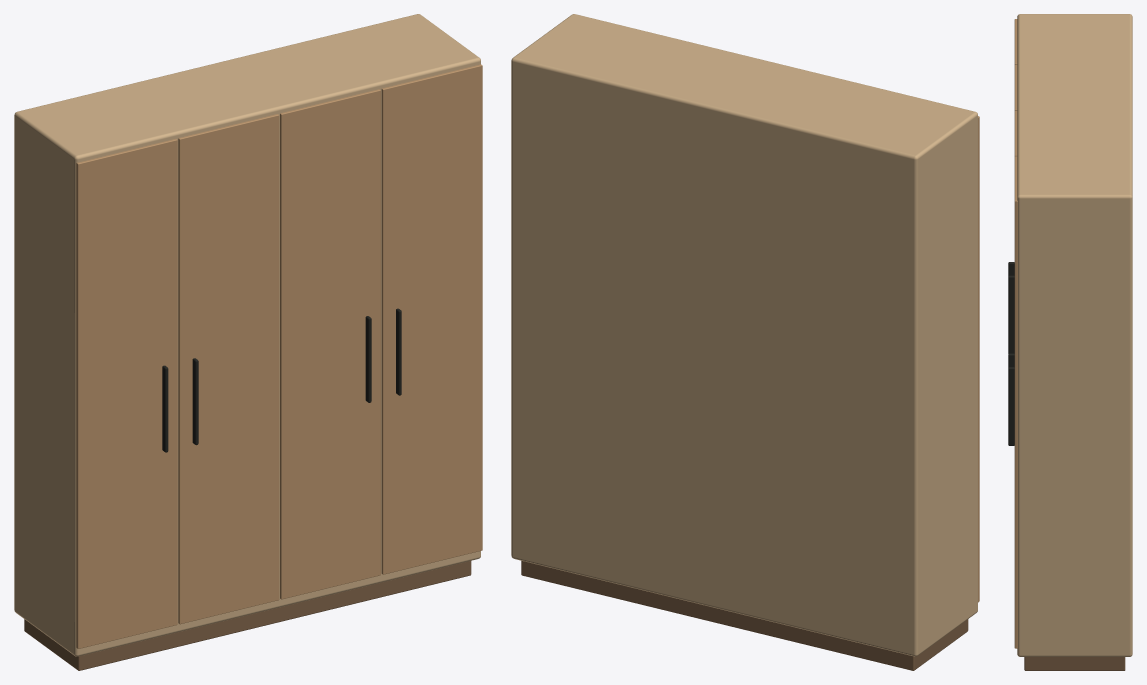
The model's file is wardrobe.glb.
The picture shows the model from 3 angles, left to right: view 1: azimuth 30°, elevation 25°; view 2: azimuth 150°, elevation 25°; view 3: azimuth 270°, elevation 25°; orthographic projection. The views are drawn at different scales.
Parts seen in each view (by area): view 1: studio/oak, studio/oakLight, studio/oakDark, studio/black; view 2: studio/oakLight, studio/oakDark, studio/oak; view 3: studio/oakLight, studio/oak, studio/oakDark, studio/black.
Part boxes in pixels (<box>): studio/oak: <box>76,64,482,648</box>; studio/oakLight: <box>14,14,480,656</box>; studio/oakDark: <box>24,561,471,670</box>; studio/black: <box>162,308,401,452</box>; studio/oakLight: <box>511,14,977,656</box>; studio/oakDark: <box>521,561,968,670</box>; studio/oak: <box>978,116,979,602</box>; studio/oakLight: <box>1017,14,1132,656</box>; studio/oak: <box>1014,19,1017,648</box>; studio/oakDark: <box>1024,657,1125,670</box>; studio/black: <box>1008,262,1014,445</box>.
Size of the model in its own units: 1.8 by 2.19 by 0.517.
